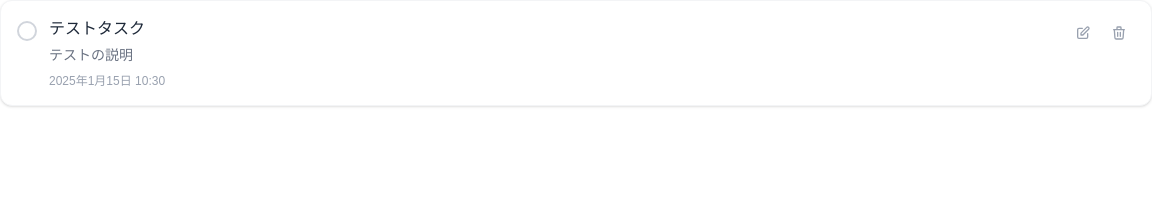
Test: TodoItem › 編集ボタンをクリックすると編集モードに切り替わる
What coordinates should you click on to do the following:
click the button titled "編集"
I would click on:
 (1083, 33)
Its box is x1=1067 y1=17 x2=1099 y2=49.
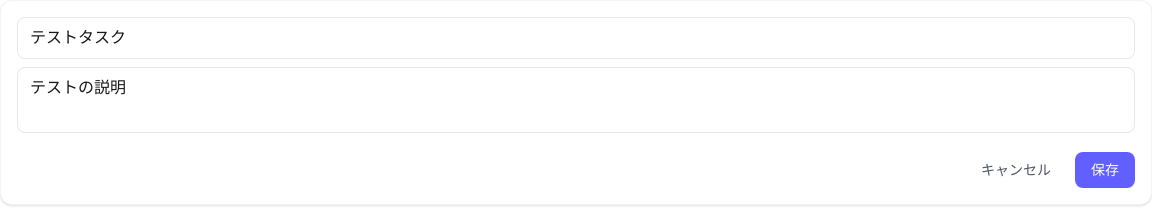
Expected: the field showing "テストタスク" is shown, x1=17 y1=17 x2=1135 y2=59
Expected: the text box showing "テストの説明" is shown, x1=17 y1=67 x2=1135 y2=133
Expected: the button "保存" is shown, x1=1075 y1=152 x2=1135 y2=188
